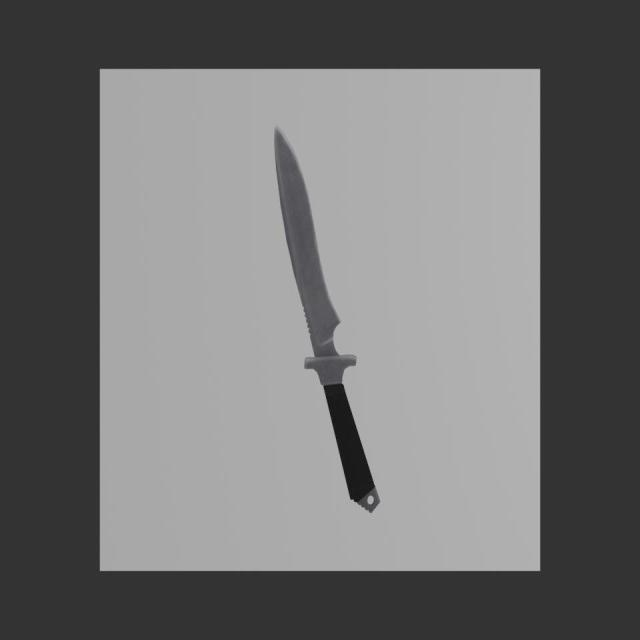knife: (323, 383, 380, 513)
